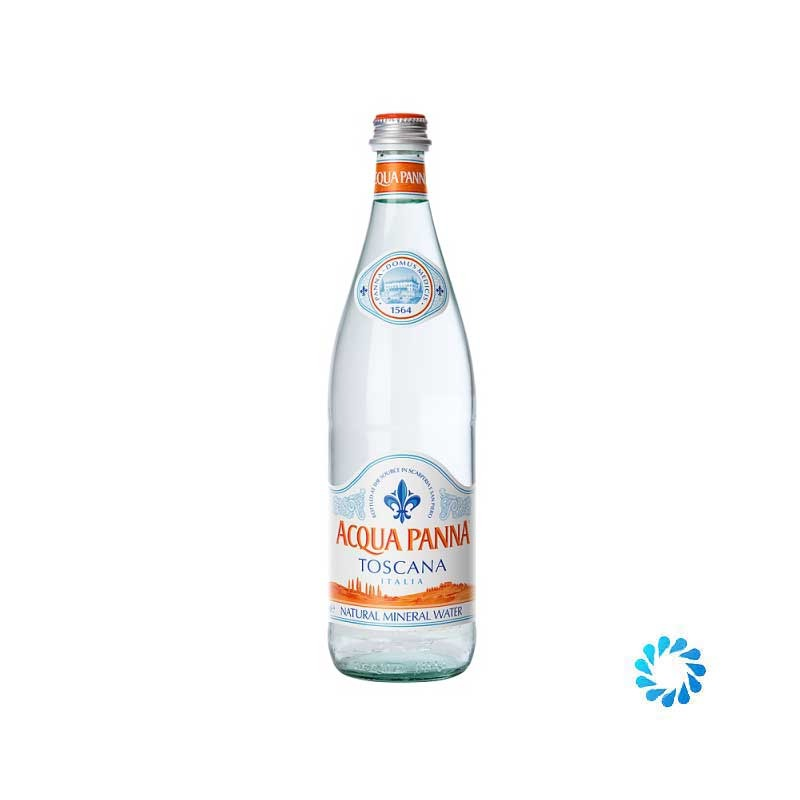container: (321, 100, 491, 687)
